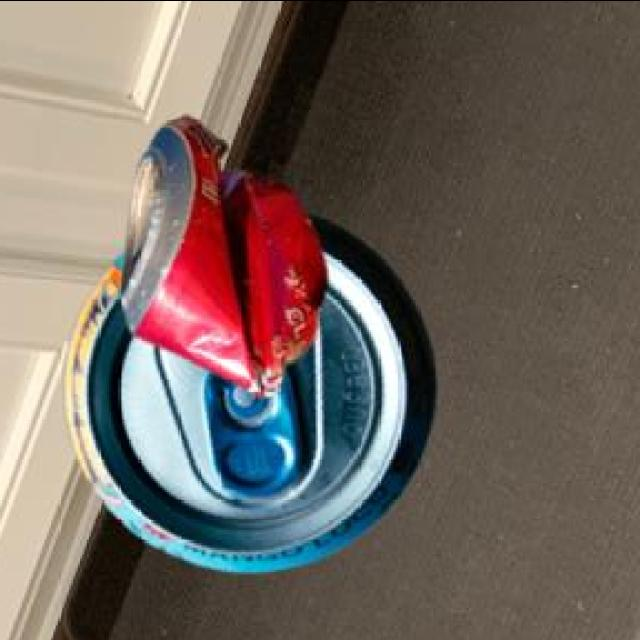logam: (61, 214, 432, 574), (117, 119, 323, 399)
